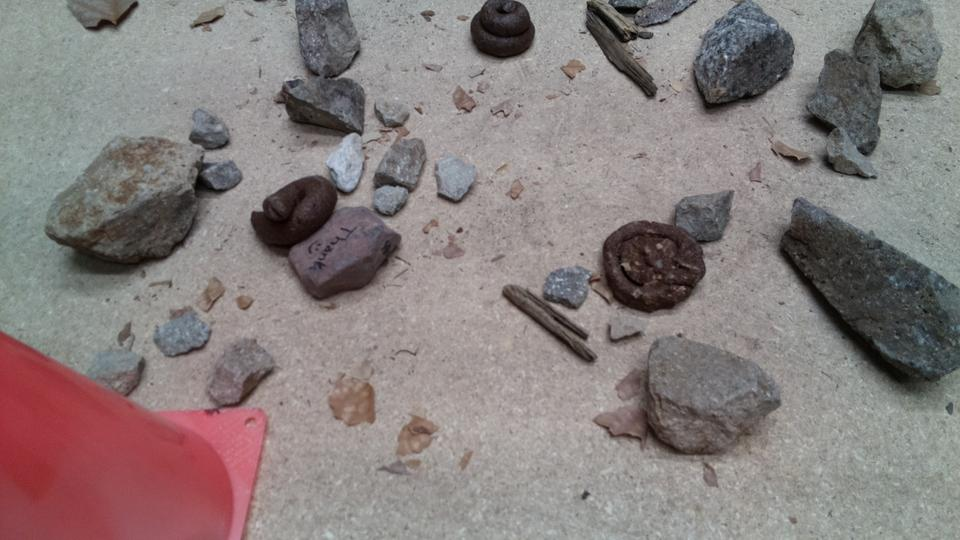poop: (599, 217, 709, 314), (249, 172, 337, 249), (467, 1, 537, 60)
